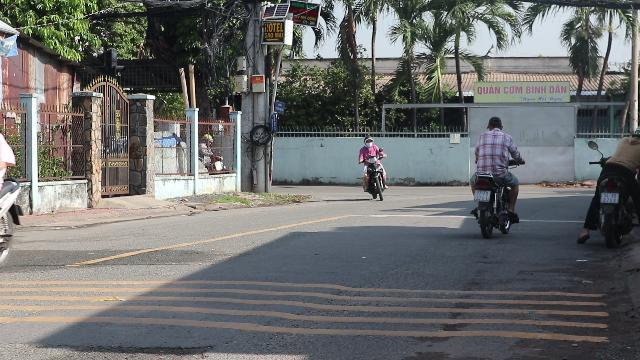licenseplate: (600, 193, 618, 204), (474, 190, 490, 201)
motorcyclist: (580, 125, 640, 245), (464, 114, 522, 238)
nohelmet: (486, 115, 502, 131)
